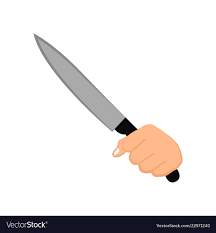knife: (33, 31, 184, 183)
